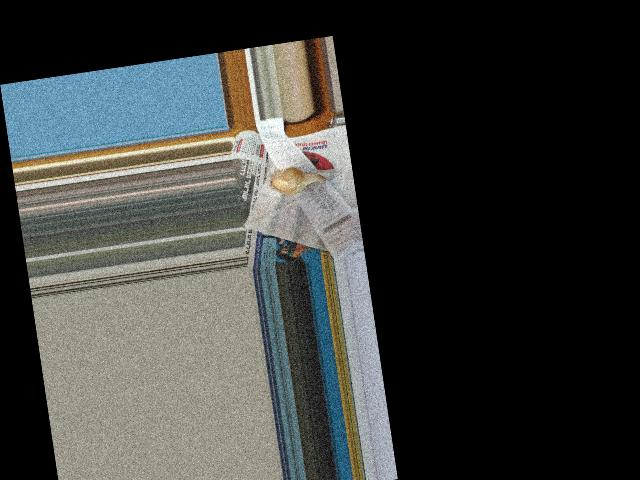onion: (272, 165, 323, 196)
